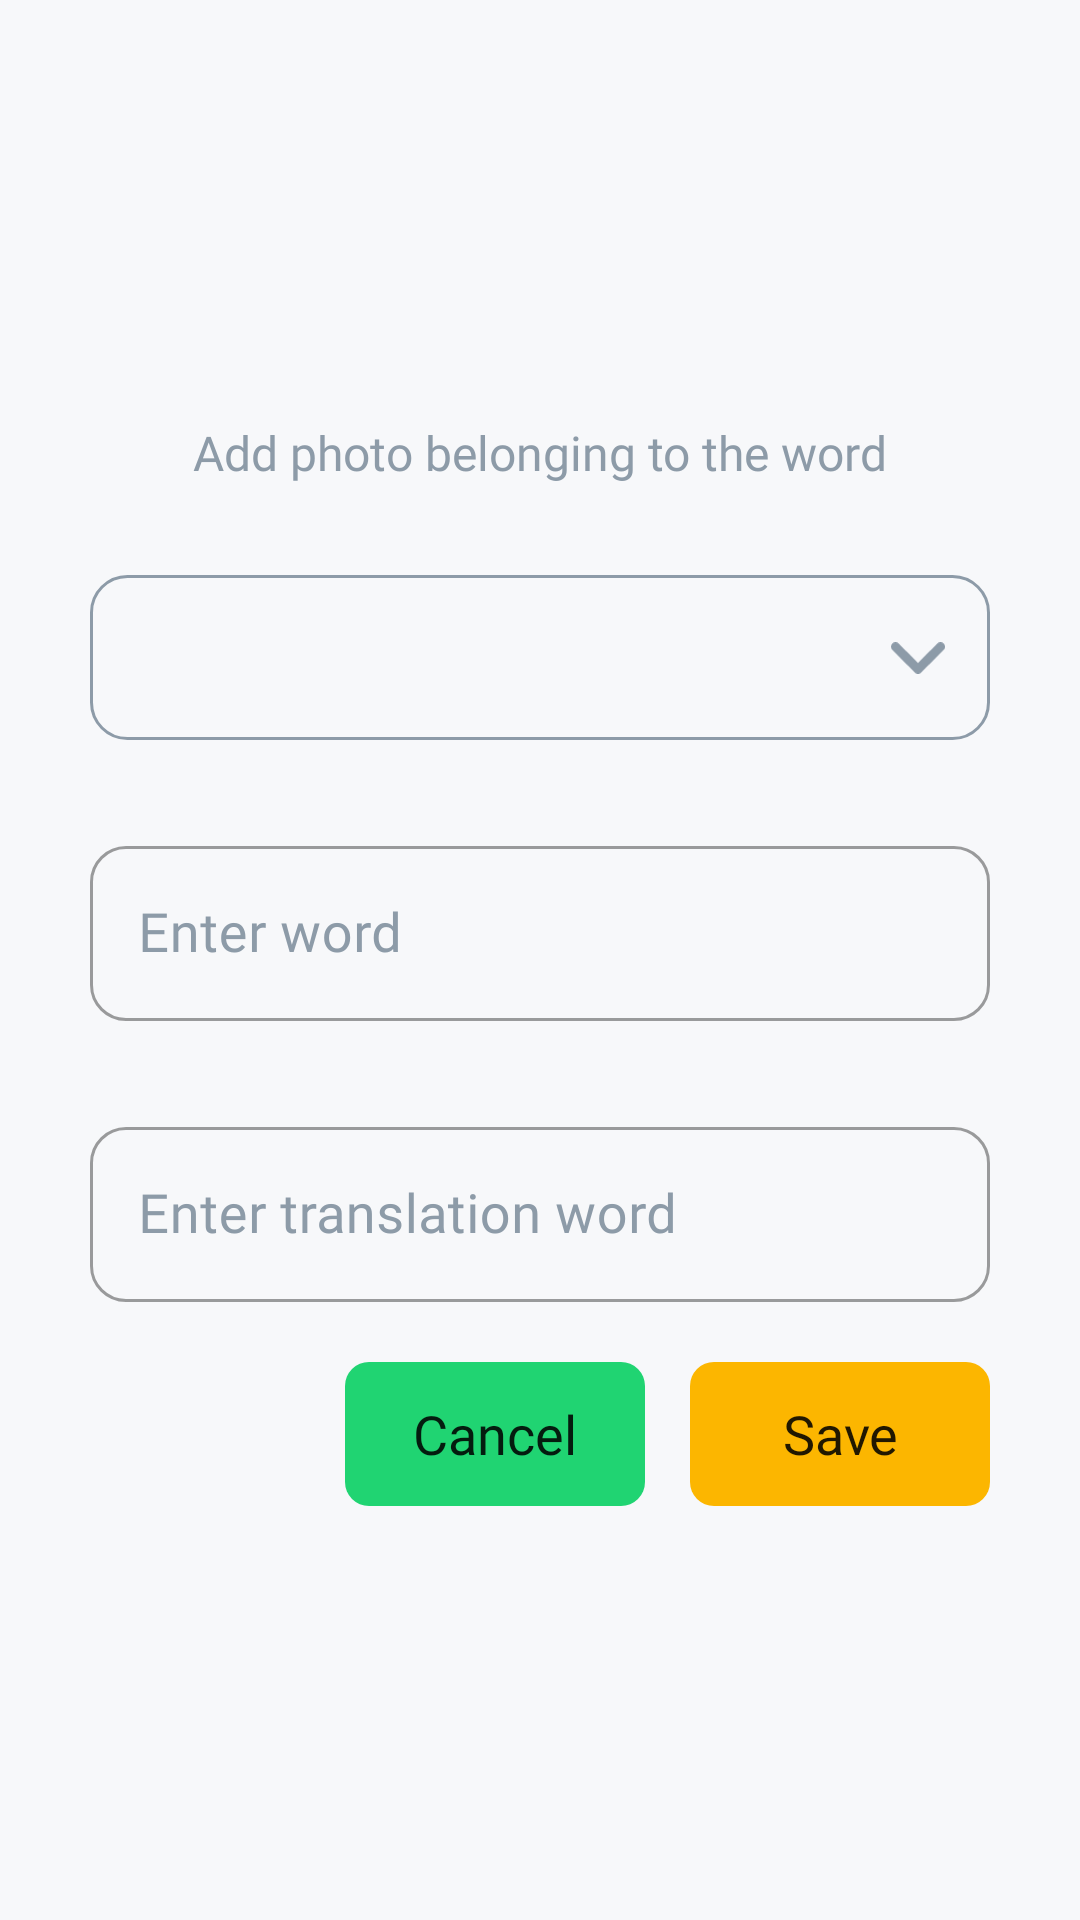

Screen size 1080×1920. Icon name, then its box in pixels as bbox=(x1, y1, x2, y2):
down arrow: bbox=(891, 642, 945, 674)
